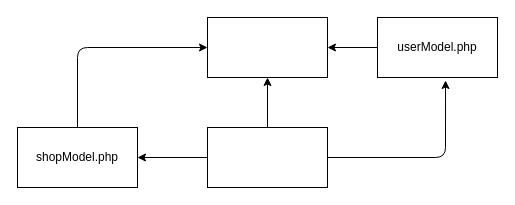
This 515x205 diagram has some shape labels left out. The shapes that lost their labels are listed below. From the top down, each one's box as (x1, y1, x2, y2) in pixels, then its label:
(206, 16, 328, 78): pageModel.php
(206, 126, 328, 188): pageController.php
